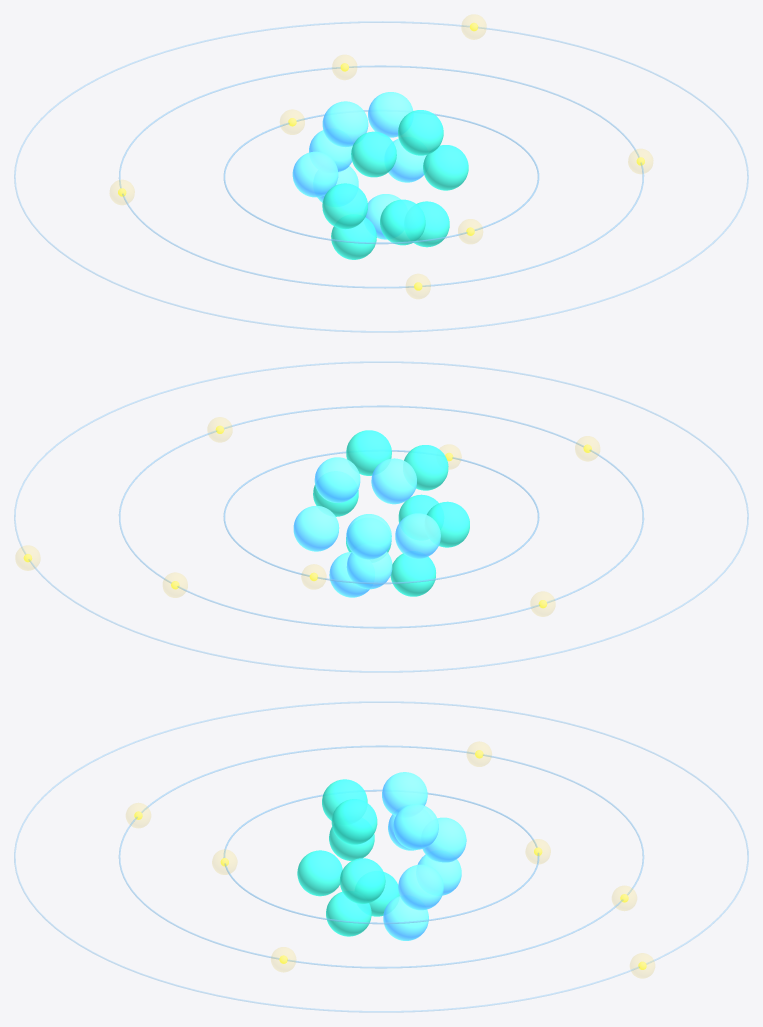
File: uuom-bohr-model.glb
The picture shows the model from 3 angles, top to bottom: view 1: azimuth 30°, elevation 25°; view 2: azimuth 150°, elevation 25°; view 3: azimuth 270°, elevation 25°; orthographic projection.
Visible parts, largest first — view 1: a3bd80b9-1496-493f-9e71-a369901e6a1e, 864f978d-5acb-446b-9137-a80e6d594ad2, d8d82d82-a74a-4db0-a4c5-38a045994db3, cfd58deb-1d4f-458d-835a-5107f29890f3, 8c43c6b9-2937-41be-863c-e2047bc68e84, 1abfc67d-f40b-4684-b66a-e182b604095d, bd57eb4d-2c31-4254-9c09-7e977e3e7efc, be6be1fa-6039-42f7-9fa6-e562b264b0cc, 402ccac1-314c-455c-98a0-4091bba45690, 43af37bc-4694-4bc5-9b5a-b07419790a3d, 91deb25e-ae71-4eb1-9d4a-9ac172ee0c49, 4a6a0f2e-8587-4479-905b-9f9f1fc2fef6 (+4 smaller); view 2: a3bd80b9-1496-493f-9e71-a369901e6a1e, 864f978d-5acb-446b-9137-a80e6d594ad2, 43af37bc-4694-4bc5-9b5a-b07419790a3d, a0238e24-1954-4d6d-a9f6-241da6a70da3, 402ccac1-314c-455c-98a0-4091bba45690, cf73c401-8280-49f7-aa68-7da31050085c, bd57eb4d-2c31-4254-9c09-7e977e3e7efc, 91deb25e-ae71-4eb1-9d4a-9ac172ee0c49, 1abfc67d-f40b-4684-b66a-e182b604095d, 8c43c6b9-2937-41be-863c-e2047bc68e84, 4a6a0f2e-8587-4479-905b-9f9f1fc2fef6, cfd58deb-1d4f-458d-835a-5107f29890f3 (+4 smaller); view 3: a3bd80b9-1496-493f-9e71-a369901e6a1e, 864f978d-5acb-446b-9137-a80e6d594ad2, 1abfc67d-f40b-4684-b66a-e182b604095d, be6be1fa-6039-42f7-9fa6-e562b264b0cc, a0238e24-1954-4d6d-a9f6-241da6a70da3, 43af37bc-4694-4bc5-9b5a-b07419790a3d, d8d82d82-a74a-4db0-a4c5-38a045994db3, a96a7d1b-5045-447f-a772-0777f0ff33f0, dde553a4-be4e-44e3-a559-c2f43f0cf208, 402ccac1-314c-455c-98a0-4091bba45690, 4a6a0f2e-8587-4479-905b-9f9f1fc2fef6, cf73c401-8280-49f7-aa68-7da31050085c (+4 smaller).
Boxes of the visible parts, left/top/right/bottom form: a3bd80b9-1496-493f-9e71-a369901e6a1e: left=14, top=21, right=748, bottom=332; 864f978d-5acb-446b-9137-a80e6d594ad2: left=118, top=65, right=644, bottom=288; d8d82d82-a74a-4db0-a4c5-38a045994db3: left=380, top=199, right=425, bottom=245; cfd58deb-1d4f-458d-835a-5107f29890f3: left=322, top=183, right=367, bottom=229; 8c43c6b9-2937-41be-863c-e2047bc68e84: left=351, top=131, right=396, bottom=177; 1abfc67d-f40b-4684-b66a-e182b604095d: left=398, top=110, right=443, bottom=155; bd57eb4d-2c31-4254-9c09-7e977e3e7efc: left=292, top=151, right=338, bottom=197; be6be1fa-6039-42f7-9fa6-e562b264b0cc: left=423, top=145, right=468, bottom=190; 402ccac1-314c-455c-98a0-4091bba45690: left=322, top=101, right=368, bottom=147; 43af37bc-4694-4bc5-9b5a-b07419790a3d: left=368, top=92, right=413, bottom=137; 91deb25e-ae71-4eb1-9d4a-9ac172ee0c49: left=331, top=217, right=376, bottom=259; 4a6a0f2e-8587-4479-905b-9f9f1fc2fef6: left=223, top=110, right=539, bottom=244; a3bd80b9-1496-493f-9e71-a369901e6a1e: left=14, top=361, right=748, bottom=672; 864f978d-5acb-446b-9137-a80e6d594ad2: left=118, top=405, right=644, bottom=628; 43af37bc-4694-4bc5-9b5a-b07419790a3d: left=314, top=457, right=360, bottom=502; a0238e24-1954-4d6d-a9f6-241da6a70da3: left=293, top=505, right=339, bottom=551; 402ccac1-314c-455c-98a0-4091bba45690: left=371, top=458, right=416, bottom=504; cf73c401-8280-49f7-aa68-7da31050085c: left=346, top=514, right=391, bottom=559; bd57eb4d-2c31-4254-9c09-7e977e3e7efc: left=395, top=513, right=440, bottom=558; 91deb25e-ae71-4eb1-9d4a-9ac172ee0c49: left=390, top=553, right=435, bottom=596; 1abfc67d-f40b-4684-b66a-e182b604095d: left=346, top=430, right=391, bottom=475; 8c43c6b9-2937-41be-863c-e2047bc68e84: left=404, top=445, right=448, bottom=490; 4a6a0f2e-8587-4479-905b-9f9f1fc2fef6: left=223, top=450, right=539, bottom=584; cfd58deb-1d4f-458d-835a-5107f29890f3: left=427, top=501, right=469, bottom=547; a3bd80b9-1496-493f-9e71-a369901e6a1e: left=14, top=701, right=748, bottom=1012; 864f978d-5acb-446b-9137-a80e6d594ad2: left=118, top=745, right=644, bottom=968; 1abfc67d-f40b-4684-b66a-e182b604095d: left=331, top=799, right=377, bottom=844; be6be1fa-6039-42f7-9fa6-e562b264b0cc: left=339, top=858, right=385, bottom=903; a0238e24-1954-4d6d-a9f6-241da6a70da3: left=398, top=864, right=443, bottom=910; 43af37bc-4694-4bc5-9b5a-b07419790a3d: left=393, top=804, right=438, bottom=849; d8d82d82-a74a-4db0-a4c5-38a045994db3: left=297, top=850, right=342, bottom=896; a96a7d1b-5045-447f-a772-0777f0ff33f0: left=326, top=892, right=371, bottom=936; dde553a4-be4e-44e3-a559-c2f43f0cf208: left=383, top=896, right=428, bottom=940; 402ccac1-314c-455c-98a0-4091bba45690: left=382, top=772, right=427, bottom=815; 4a6a0f2e-8587-4479-905b-9f9f1fc2fef6: left=223, top=789, right=539, bottom=924; cf73c401-8280-49f7-aa68-7da31050085c: left=422, top=817, right=466, bottom=862.
Bounding box in the file's own units: 16.83 × 3.65 × 16.83.
